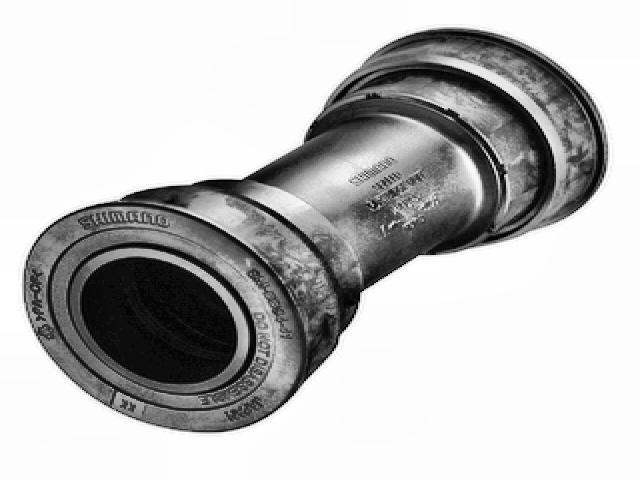bottom_bracket: (19, 26, 613, 434)
